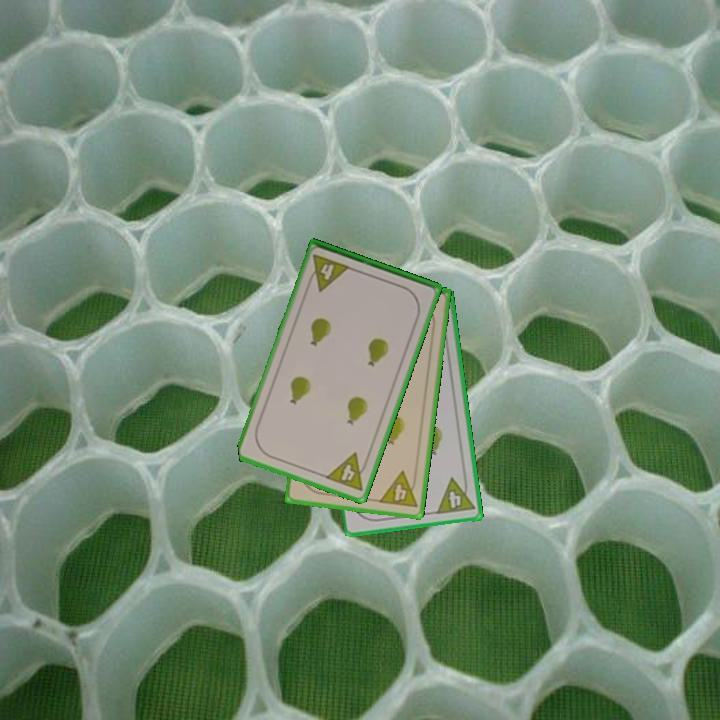4p: (322, 449, 372, 494), (304, 251, 353, 294), (433, 473, 477, 517), (375, 468, 420, 511)
